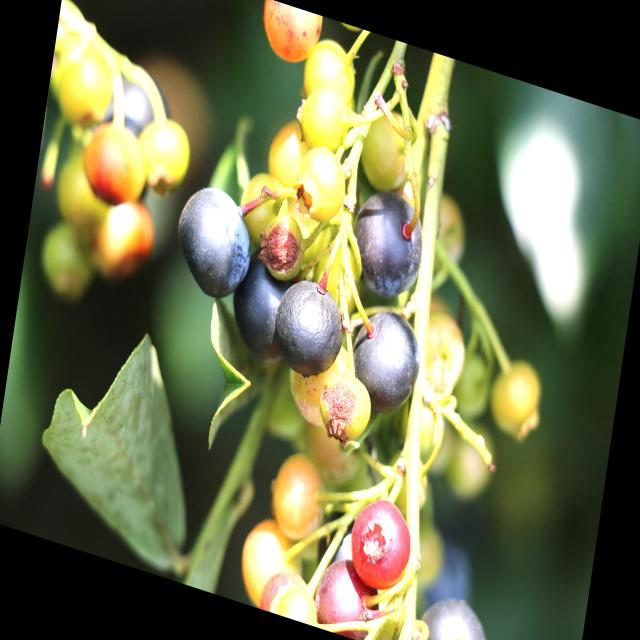blueberry: (168, 170, 260, 315), (343, 178, 435, 309), (264, 264, 352, 386), (342, 294, 423, 421), (227, 240, 304, 367), (92, 91, 168, 209), (413, 590, 501, 640)
blueberry-halfripe: (344, 490, 416, 597), (312, 553, 383, 640), (260, 0, 323, 70), (261, 562, 314, 624)
blueberry-unripe: (238, 511, 308, 614), (286, 332, 348, 439), (271, 444, 330, 542), (488, 350, 544, 442), (294, 141, 352, 226), (320, 371, 376, 450), (416, 309, 465, 398), (302, 32, 362, 104), (299, 82, 356, 156), (269, 116, 311, 192)
